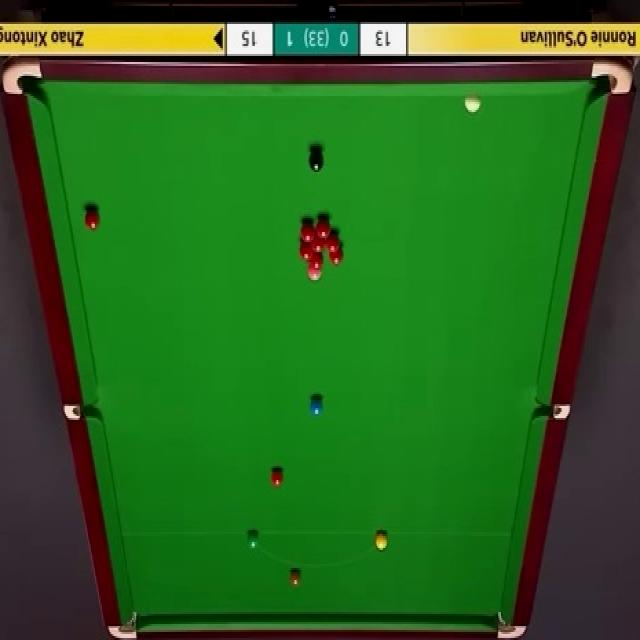pocket: (592, 62, 632, 102), (3, 58, 44, 97), (108, 610, 140, 638), (497, 612, 528, 640), (536, 403, 570, 420), (65, 403, 98, 420)
